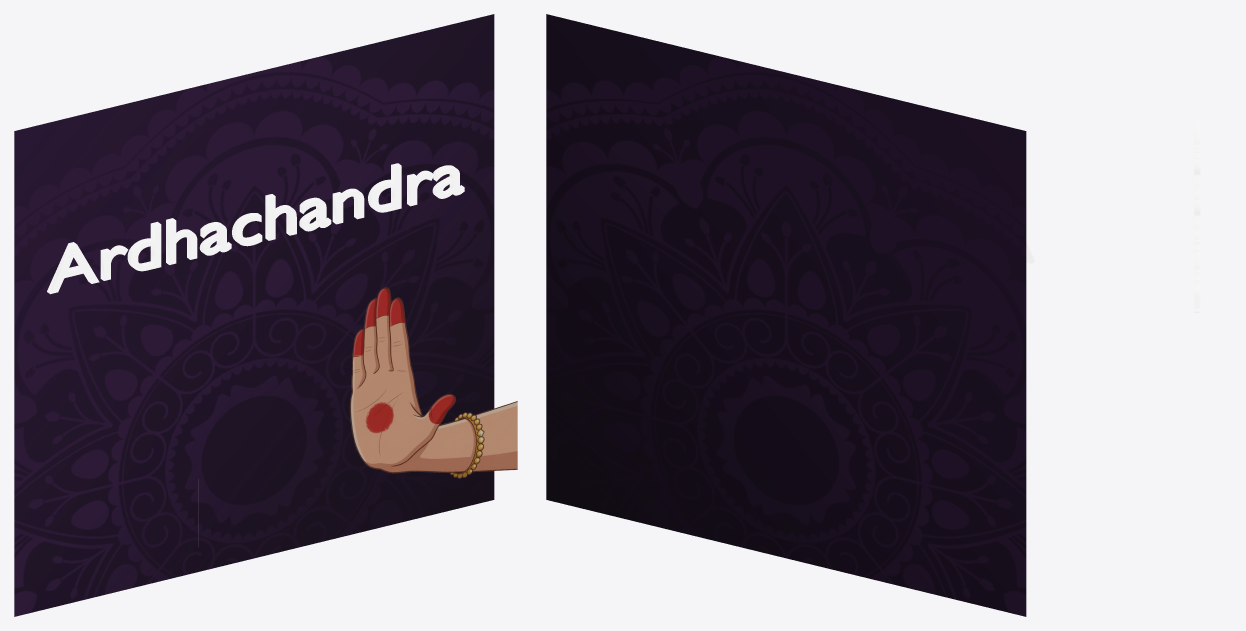
File: Ardhachandra.glb
The picture shows the model from 3 angles, left to right: view 1: azimuth 30°, elevation 25°; view 2: azimuth 150°, elevation 25°; view 3: azimuth 270°, elevation 25°; orthographic projection. The views are drawn at different scales.
Parts seen in each view (by area): view 1: Plane.010, Plane.011, Text.005; view 2: Plane.010; view 3: Text.005.
Boxes of the visible parts, x1,y1,x2,y2 form: Plane.010: (14,14,494,616); Plane.011: (350,287,517,478); Text.005: (47,163,464,294); Plane.010: (546,14,1026,616); Text.005: (1194,117,1200,312).
Size of the model in its own units: 2.48 by 2.4 by 0.8821.
Materials: 3 (2 with a texture image).
